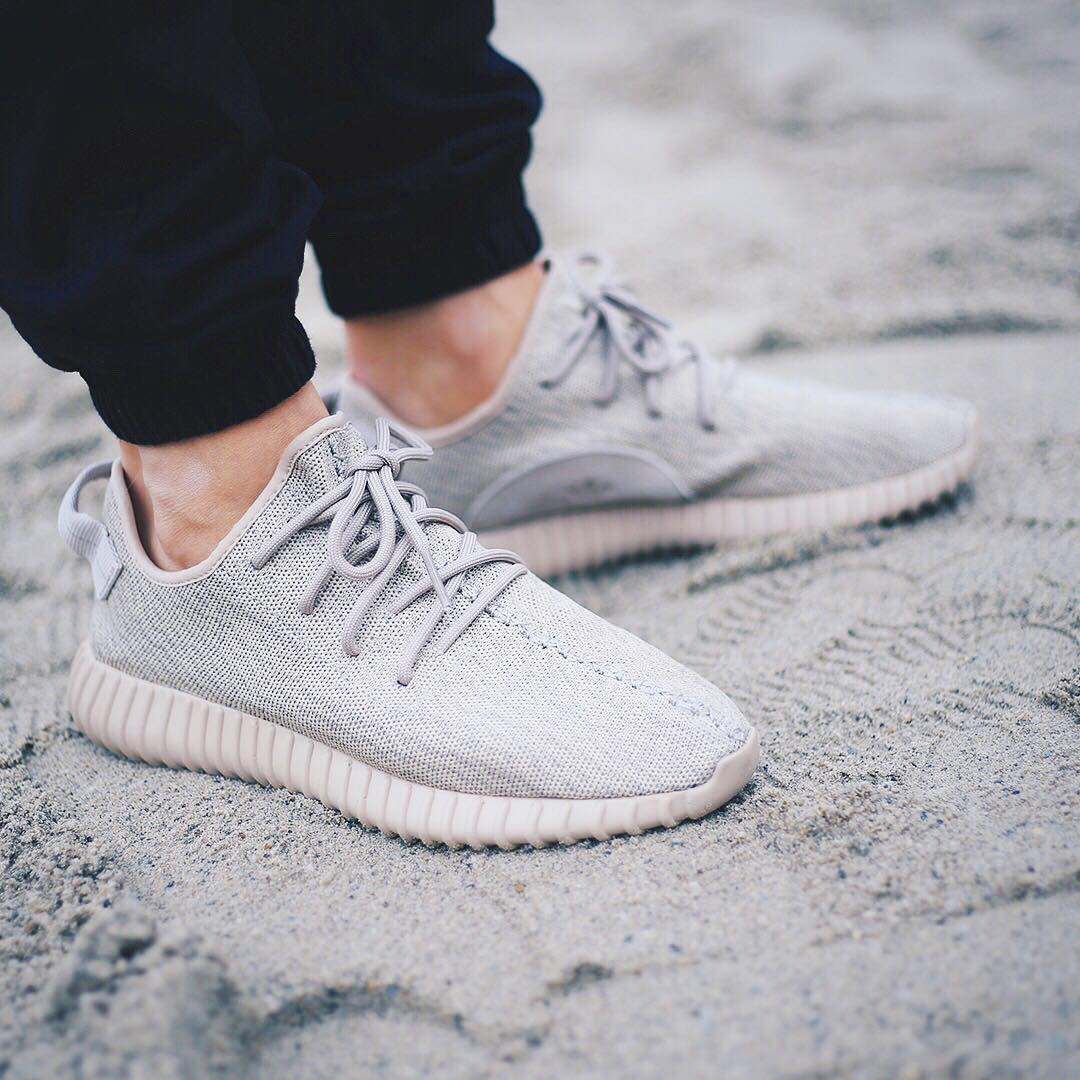sneaker: (18, 382, 802, 878), (282, 245, 1011, 586)
